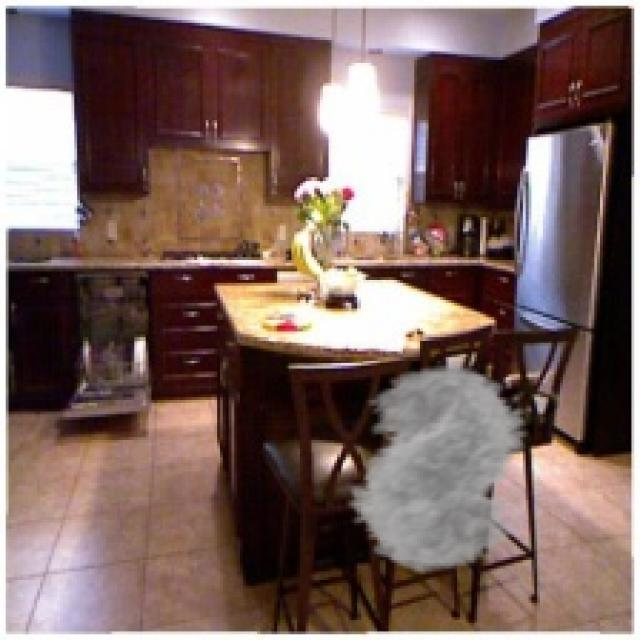Smoke: (332, 363, 552, 574)
